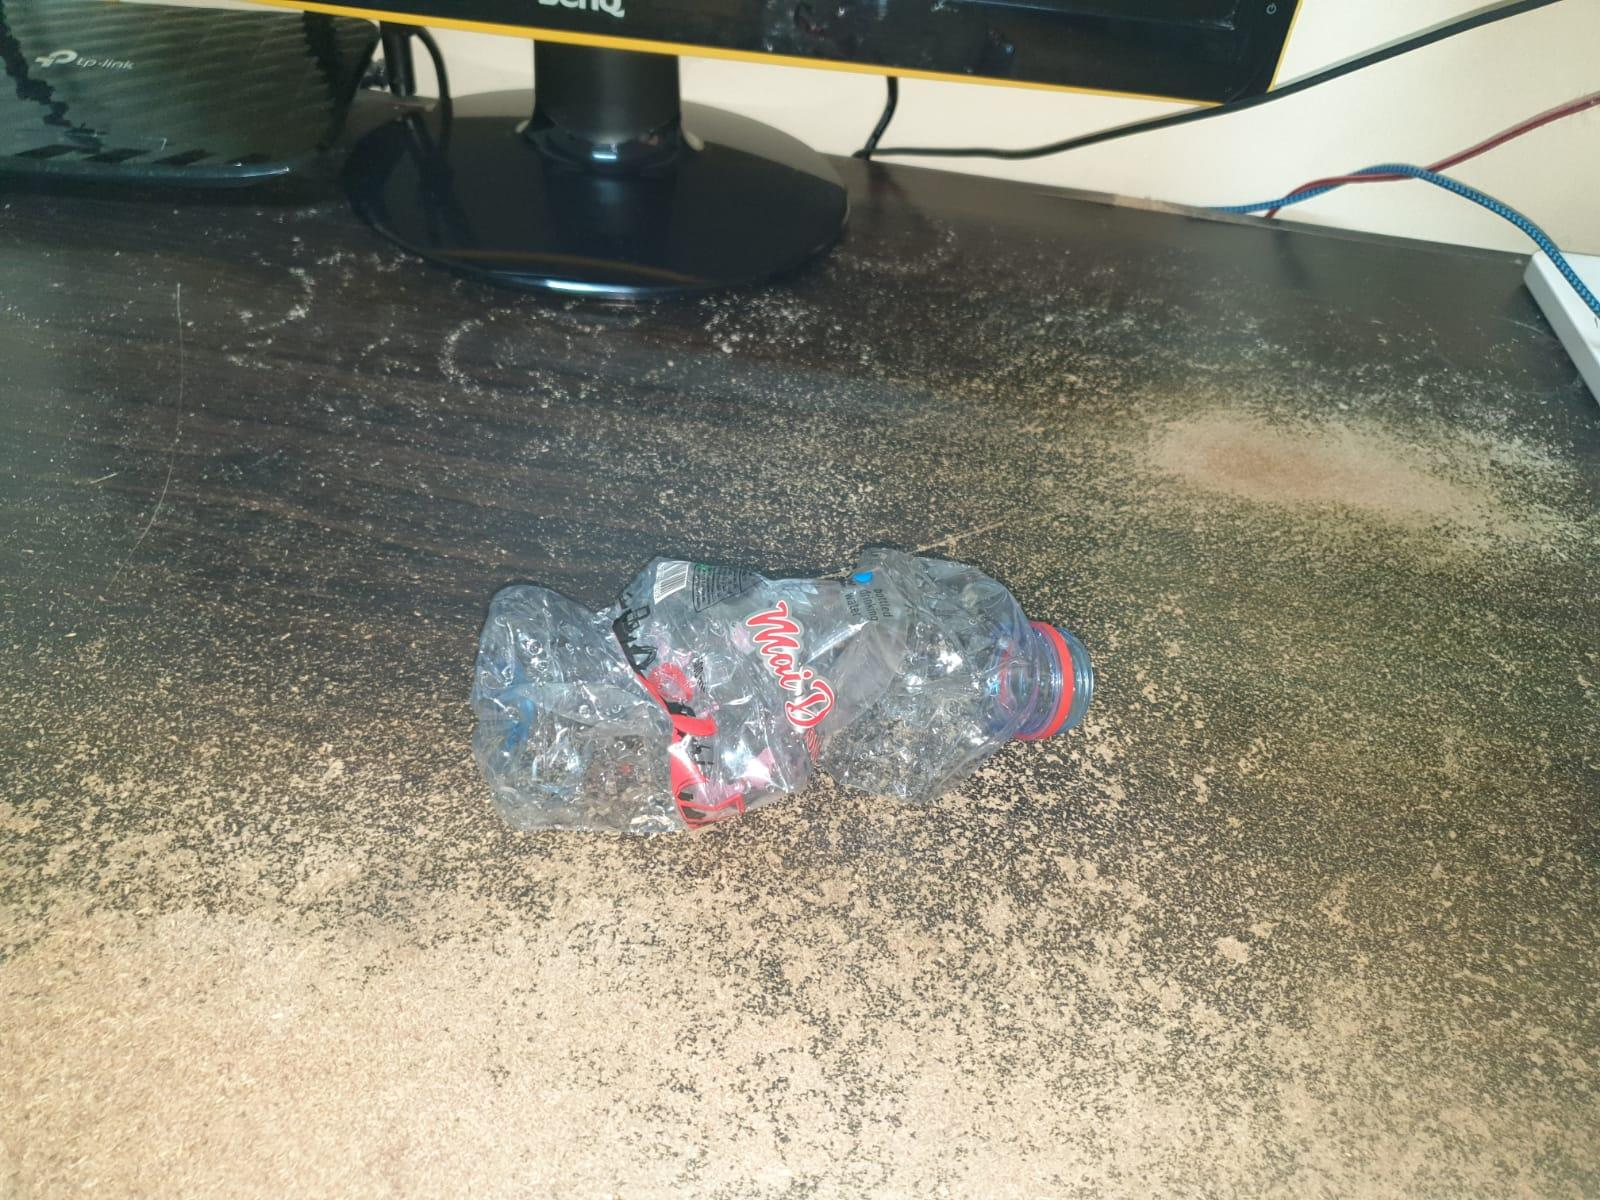bottle: (461, 548, 1101, 845)
